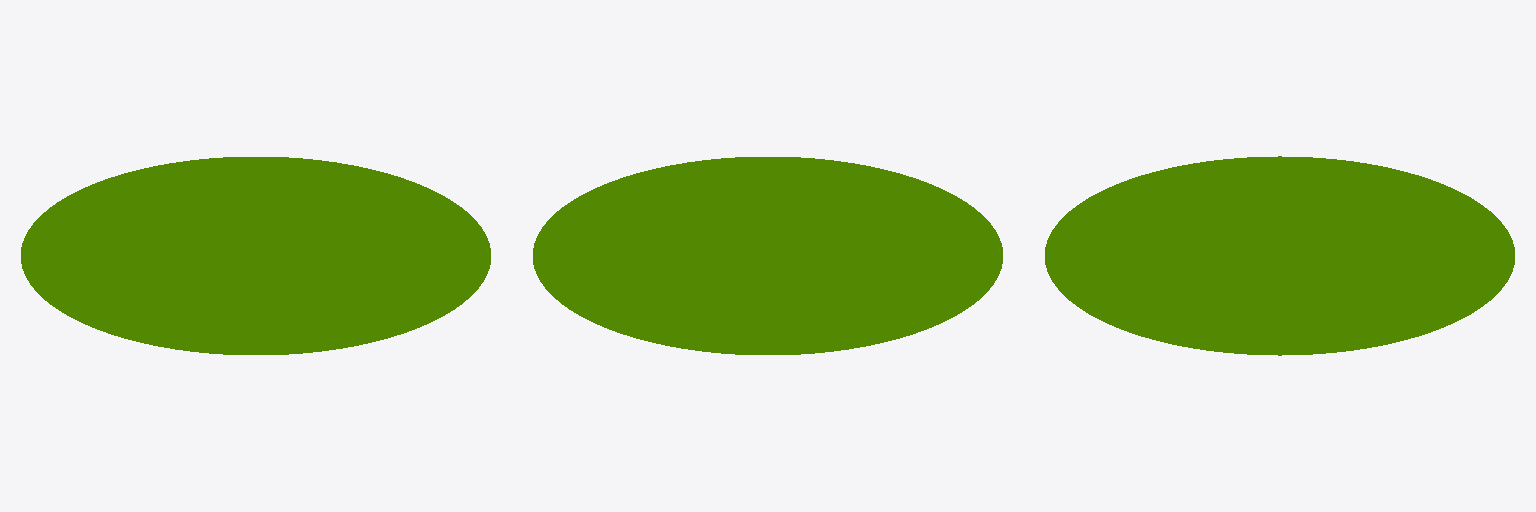
The model's file is chao-verde.obj.
3 renders of one model, left to right at view 1: azimuth 30°, elevation 25°; view 2: azimuth 150°, elevation 25°; view 3: azimuth 270°, elevation 25°, orthographic.
Parts seen in each view (by area): view 1: chao_Cone.002; view 2: chao_Cone.002; view 3: chao_Cone.002.
Boxes of the visible parts, x1,y1,x2,y2 form: chao_Cone.002: [21, 157, 490, 354]; chao_Cone.002: [533, 157, 1002, 354]; chao_Cone.002: [1045, 156, 1514, 355].
Size of the model in its own units: 58 by 0 by 58.